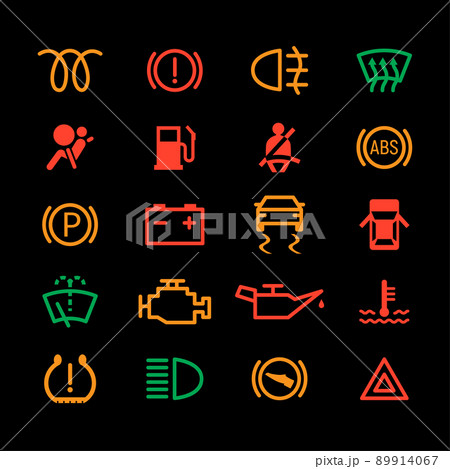ABS: (353, 122, 416, 176)
